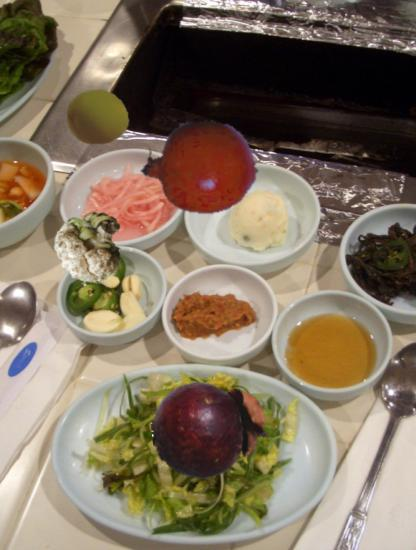Cauliflower: (54, 208, 129, 283)
Mangostan: (152, 371, 269, 488)
Peach: (66, 85, 130, 149)
Pomegranate: (141, 108, 259, 226)
